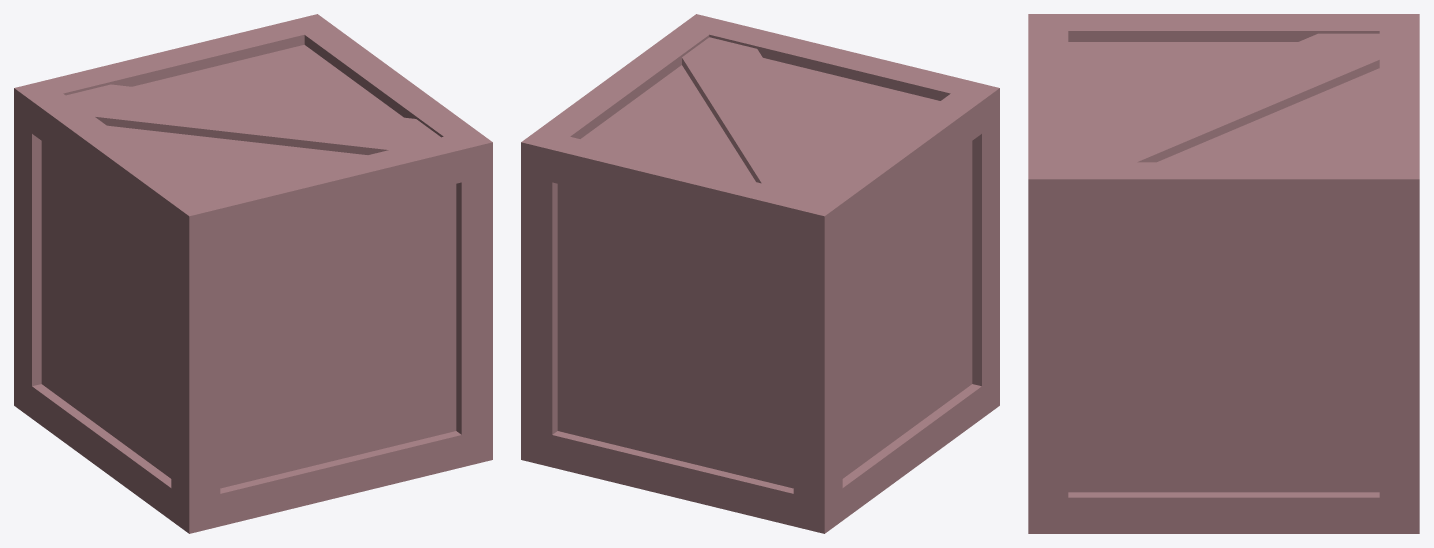
3 views of the same model, side by side, from view 1: azimuth 30°, elevation 25°; view 2: azimuth 150°, elevation 25°; view 3: azimuth 270°, elevation 25° (orthographic). The views are drawn at different scales.
Parts seen in each view (by area): view 1: Object002; view 2: Object002; view 3: Object002.
Boxes of the visible parts, bbox=[...] form: Object002: bbox=[14, 14, 492, 533]; Object002: bbox=[521, 14, 999, 533]; Object002: bbox=[1028, 14, 1419, 533].
Bounding box in the file's own units: 127 × 127 × 127.
